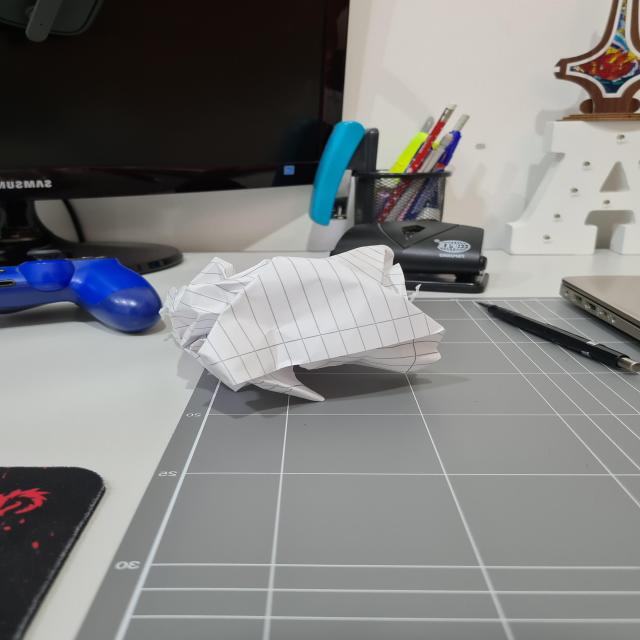kertas: (158, 244, 430, 403)
